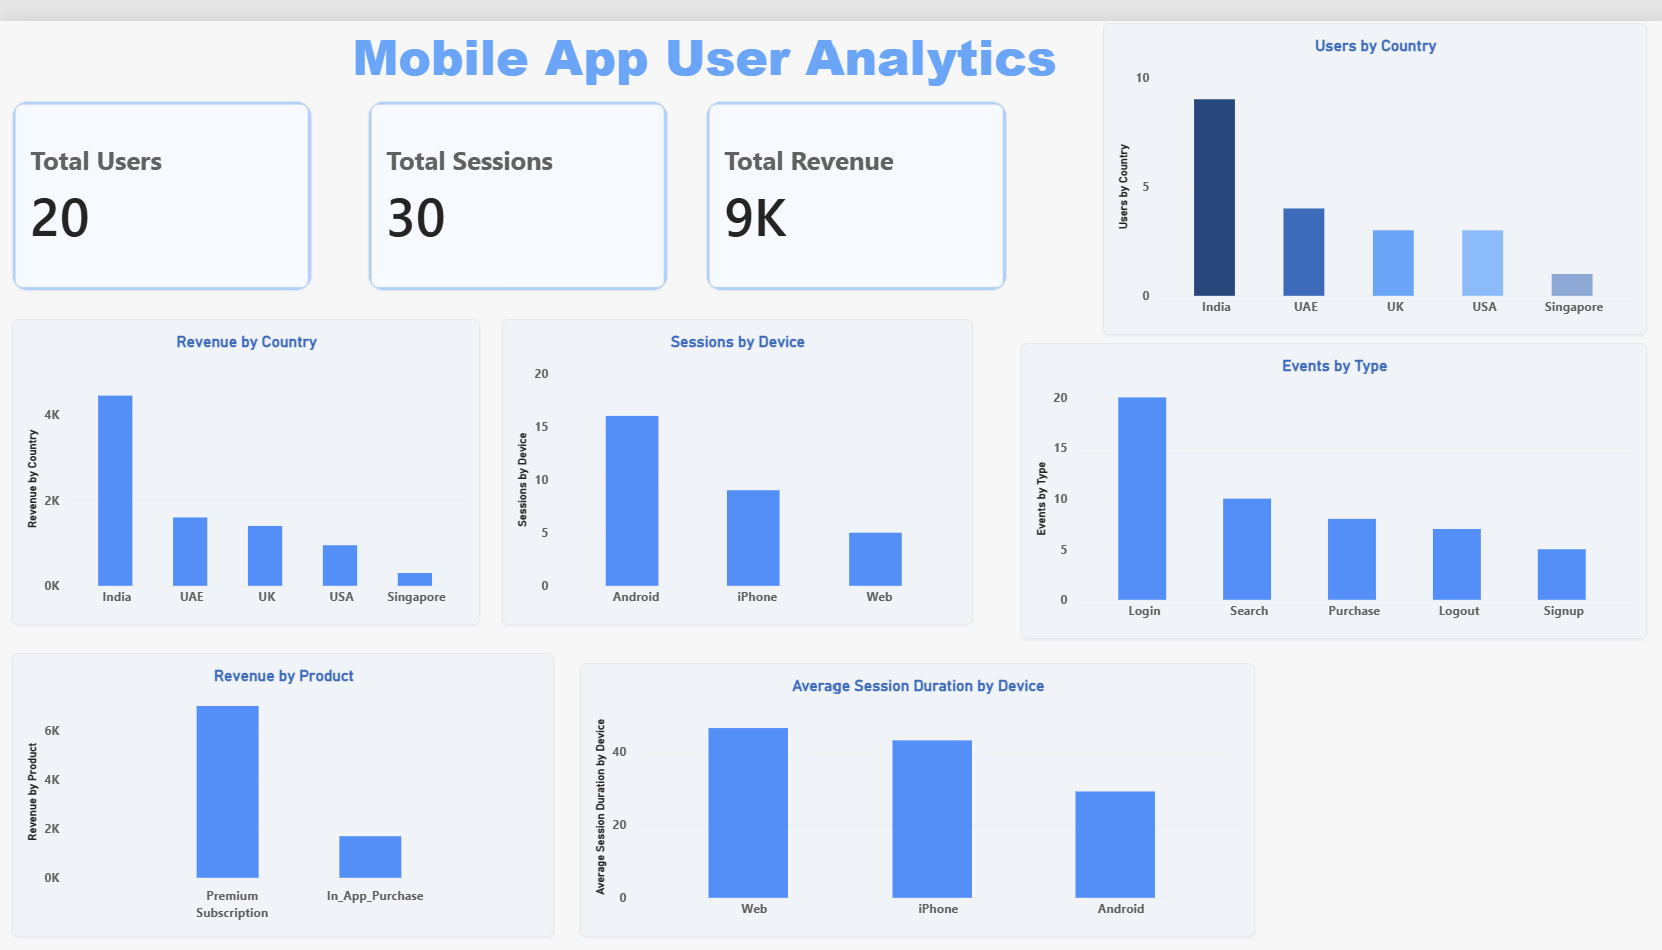

The dashboard page shown, as its layout file describes it:
{"tool":"powerbi","page":{"name":"Page 1","canvas":[1920,1080],"ordinal":0},"visuals":[{"type":"cardVisual","fields":{"Data":["Sum(country_summary.total_users)"]},"box":[16.1,91.9,344.5,218.2],"z":0},{"type":"cardVisual","fields":{"Data":["Sum(session_summary.total_sessions)"]},"box":[424.9,91.9,344.5,218.2],"z":1000},{"type":"cardVisual","fields":{"Data":["Sum(revenue_summary.total_revenue)"]},"box":[813,91.9,344.5,218.2],"z":2000},{"type":"clusteredColumnChart","title":"Users by Country","fields":{"Category":["country_summary.country"],"Y":["Sum(country_summary.total_users)"]},"box":[1267.8,2.3,624.7,358.3],"z":2001},{"type":"clusteredColumnChart","title":"Revenue by Country","fields":{"Category":["country_revenue.country"],"Y":["Sum(country_revenue.total_revenue)"]},"box":[16.1,342.2,537.4,351.4],"z":2002},{"type":"clusteredColumnChart","title":"Sessions by Device","fields":{"Category":["session_summary.device"],"Y":["Sum(session_summary.total_sessions)"]},"box":[578.8,342.2,539.7,351.4],"z":2003},{"type":"clusteredColumnChart","title":"Events by Type","fields":{"Category":["event_summary.event_type"],"Y":["Sum(event_summary.total_events)"]},"box":[1173.6,369.8,718.9,339.9],"z":2004},{"type":"clusteredColumnChart","title":"Revenue by Product","fields":{"Category":["revenue_summary.product"],"Y":["Sum(revenue_summary.total_revenue)"]},"box":[16.1,725.7,622.4,326.1],"z":2005},{"type":"clusteredColumnChart","title":"Average Session Duration by Device","fields":{"Category":["session_summary.device"],"Y":["Sum(session_summary.average_duration)"]},"box":[668.3,737.2,774,314.6],"z":2006},{"type":"textbox","box":[39,0,1543.3,181.4],"z":2007}]}

Visuals, with their boxes in screenshot pixels (x1, y1, x2, y2), scaled from the page's 1920x1080 canvas onto the 1662x950 screenshot:
cardVisual - Sum(country_summary.total_users): [left=14, top=81, right=312, bottom=273]
cardVisual - Sum(session_summary.total_sessions): [left=368, top=81, right=666, bottom=273]
cardVisual - Sum(revenue_summary.total_revenue): [left=704, top=81, right=1002, bottom=273]
"Users by Country" clusteredColumnChart: [left=1097, top=2, right=1638, bottom=317]
"Revenue by Country" clusteredColumnChart: [left=14, top=301, right=479, bottom=610]
"Sessions by Device" clusteredColumnChart: [left=501, top=301, right=968, bottom=610]
"Events by Type" clusteredColumnChart: [left=1016, top=325, right=1638, bottom=624]
"Revenue by Product" clusteredColumnChart: [left=14, top=638, right=553, bottom=925]
"Average Session Duration by Device" clusteredColumnChart: [left=578, top=648, right=1248, bottom=925]
textbox: [left=34, top=0, right=1370, bottom=160]
